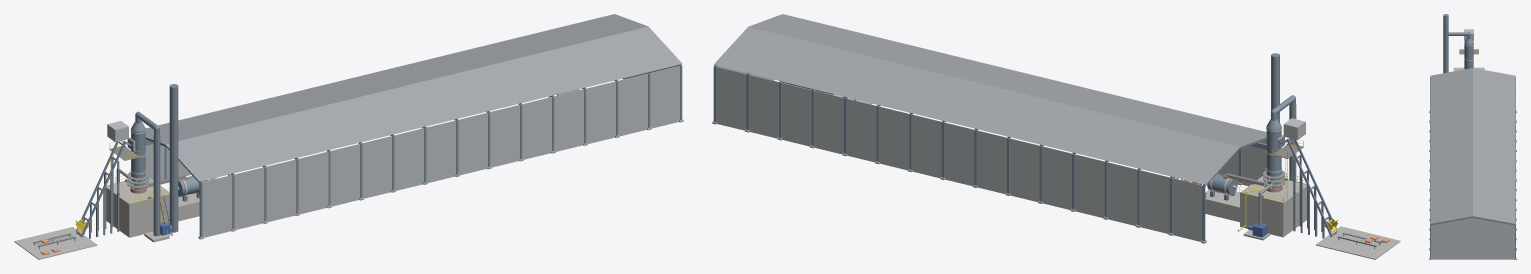
The model's file is SM_ShaftFurnaceRodLine.fbx.
3 views of the same model, side by side, from view 1: azimuth 30°, elevation 25°; view 2: azimuth 150°, elevation 25°; view 3: azimuth 270°, elevation 25° (orthographic). The views are drawn at different scales.
Parts seen in each view (by area): view 1: SFR_Hall_Roof, SFR_Hall_Wall_S, SFR_Hall_Frame, SFR_Furnace_Plinth, SFR_Stack, SFR_Skip_Track, SFR_ShaftFurnace, SFR_Charging_Pad, SFR_Hall_Wall_N; view 2: SFR_Hall_Roof, SFR_Hall_Wall_N, SFR_Furnace_Plinth, SFR_Hall_Frame, SFR_Skip_Track, SFR_ShaftFurnace, SFR_Charging_Pad, SFR_Hall_Wall_S, SFR_Stack, SFR_CombustionAir, SFR_HoldingFurnace; view 3: SFR_Hall_Roof, SFR_Hall_Wall_E, SFR_Hall_Frame, SFR_ShaftFurnace, SFR_Stack, SFR_Skip_Track.
Boxes of the visible parts, x1,y1,x2,y2 form: SFR_Hall_Roof: [145, 14, 682, 181]; SFR_Hall_Wall_S: [202, 65, 679, 237]; SFR_Hall_Frame: [145, 64, 683, 239]; SFR_Furnace_Plinth: [106, 169, 199, 237]; SFR_Stack: [144, 84, 178, 242]; SFR_Skip_Track: [76, 121, 132, 238]; SFR_ShaftFurnace: [109, 111, 159, 193]; SFR_Charging_Pad: [14, 227, 97, 259]; SFR_Hall_Wall_N: [145, 139, 191, 180]; SFR_Hall_Roof: [714, 14, 1266, 184]; SFR_Hall_Wall_N: [716, 66, 1202, 241]; SFR_Furnace_Plinth: [1205, 168, 1306, 237]; SFR_Hall_Frame: [712, 65, 1266, 243]; SFR_Skip_Track: [1280, 118, 1337, 238]; SFR_ShaftFurnace: [1263, 95, 1303, 198]; SFR_Charging_Pad: [1316, 226, 1400, 259]; SFR_Hall_Wall_S: [1218, 139, 1266, 186]; SFR_Stack: [1271, 53, 1296, 180]; SFR_CombustionAir: [1237, 183, 1272, 240]; SFR_HoldingFurnace: [1207, 173, 1237, 195]; SFR_Hall_Roof: [1430, 68, 1515, 223]; SFR_Hall_Wall_E: [1431, 218, 1514, 259]; SFR_Hall_Frame: [1429, 77, 1516, 259]; SFR_ShaftFurnace: [1448, 32, 1478, 69]; SFR_Stack: [1443, 14, 1448, 73]; SFR_Skip_Track: [1464, 29, 1473, 41].
Bounding box in the file's own units: 11735 × 2645 × 2270.
